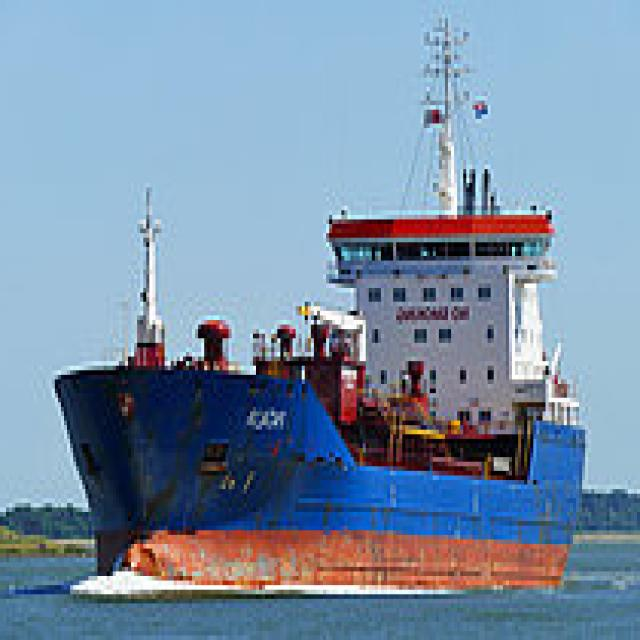Tanker: (52, 4, 594, 599)
